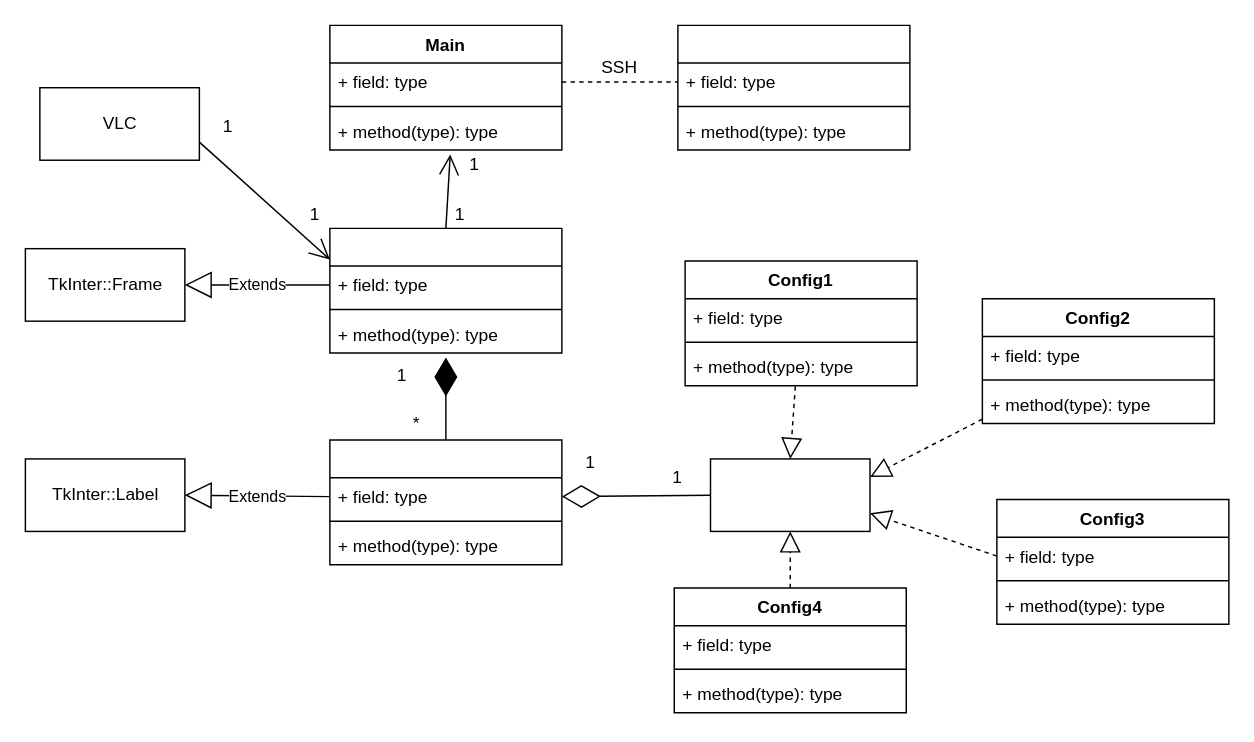
Some shapes in this 1254 by 742 pixel diagram are drawn without their labels. Each missing label, with the box of its shape:
App: (328, 227, 562, 353)
Nav: (328, 439, 562, 565)
Reader: (676, 24, 910, 150)
«abstract» Configuration: (709, 457, 870, 531)
